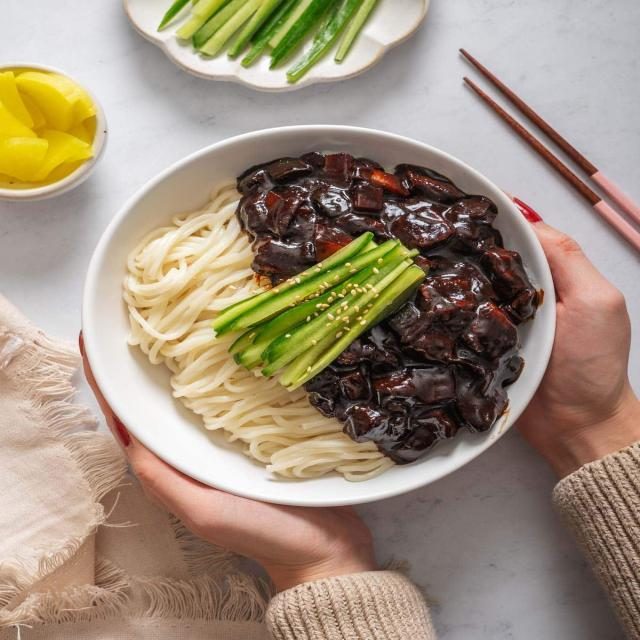cac loai rau cu: (210, 226, 436, 399), (239, 169, 358, 254), (368, 162, 478, 242), (450, 307, 534, 358), (454, 374, 525, 433), (383, 308, 456, 365), (489, 250, 556, 311), (325, 358, 392, 407), (387, 367, 458, 411), (420, 260, 473, 316), (349, 402, 414, 447)
mi jajangmyeon: (125, 173, 407, 482)
mi tuong den Jajangmyeon: (123, 143, 562, 482)
sot tuong den: (293, 172, 533, 418)
